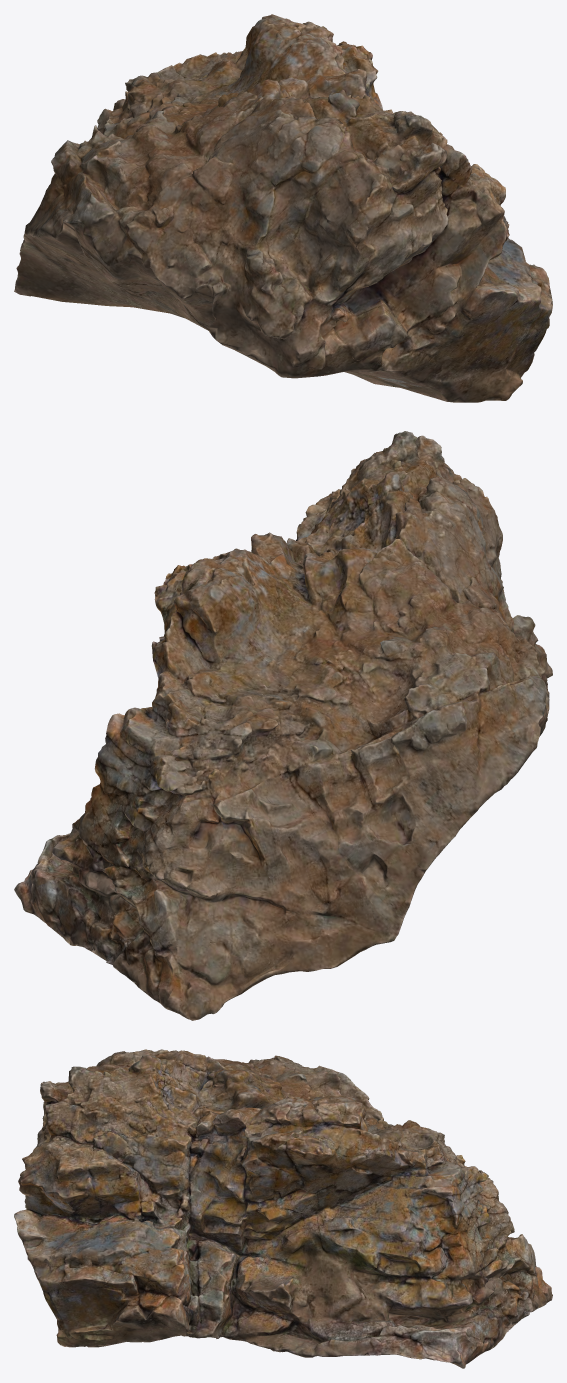
The model's file is boulder_01.glb.
3 renders of one model, top to bottom at view 1: azimuth 30°, elevation 25°; view 2: azimuth 150°, elevation 25°; view 3: azimuth 270°, elevation 25°, orthographic. The views are drawn at different scales.
Visible parts, largest first — view 1: boulder_01; view 2: boulder_01; view 3: boulder_01.
Boxes of the visible parts, bbox=[...] form: boulder_01: bbox=[14, 14, 552, 402]; boulder_01: bbox=[14, 431, 552, 1020]; boulder_01: bbox=[14, 1049, 552, 1368].
Bounding box in the file's own units: 1.27 × 1 × 1.83.
Materials: 1 (1 with a texture image).
